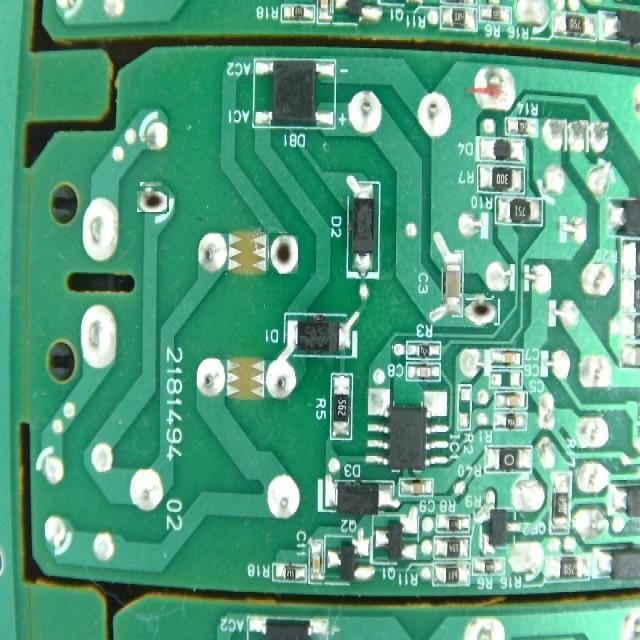damged: (268, 232, 298, 274), (466, 296, 496, 326), (139, 184, 168, 213)
